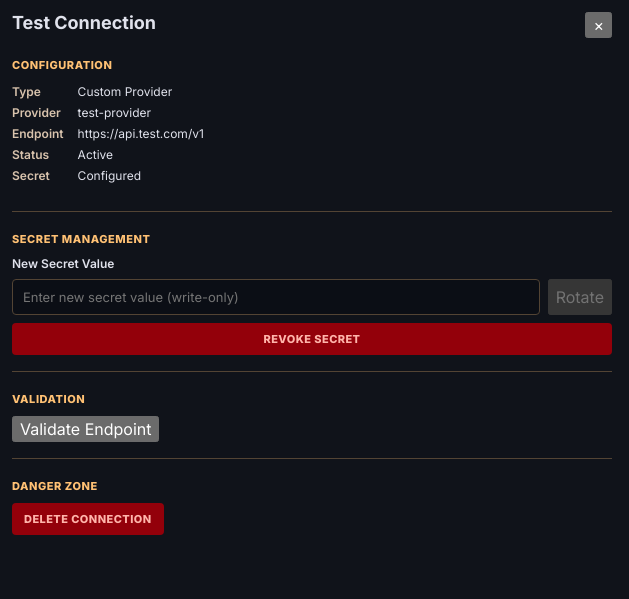
Test: ConnectionDetail › shows confirmation after clicking delete
The width and height of the screenshot is (629, 599).
Click the button with aria-label "Delete connection" at [88, 519], box [12,503,164,535]
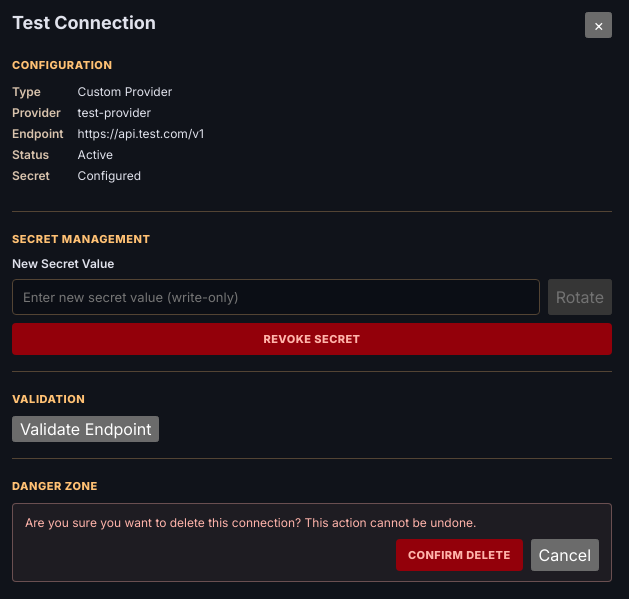
Result: the text "Confirm Delete" is shown at [396,539,523,571]
Result: the text "Cancel" is shown at [530,539,599,571]
